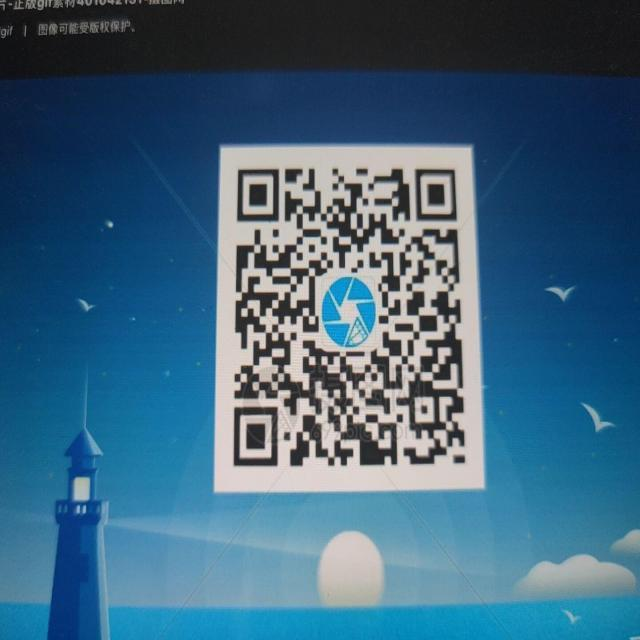qr_code: (234, 168, 466, 466)
